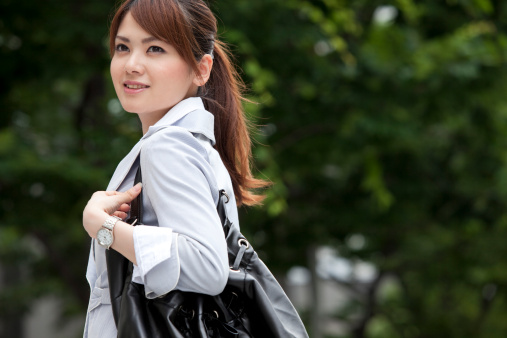em pe: (40, 0, 285, 338)
